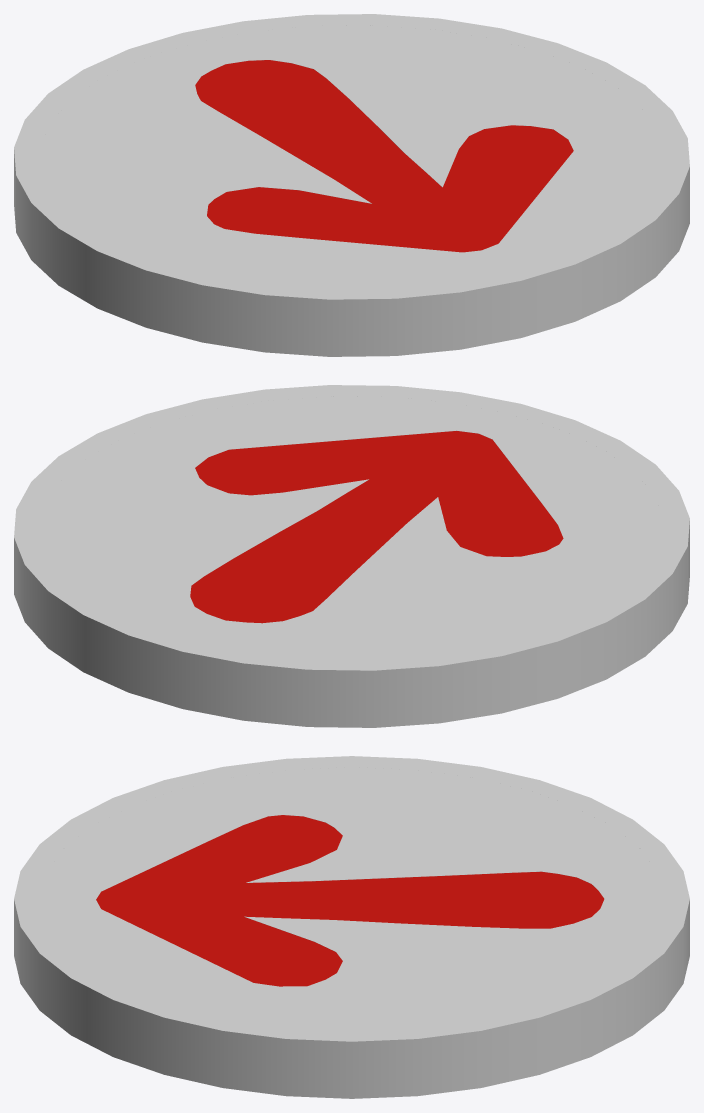
File: drop token.fbx
3 views of the same model, one above another, from view 1: azimuth 30°, elevation 25°; view 2: azimuth 150°, elevation 25°; view 3: azimuth 270°, elevation 25° (orthographic).
Visible parts, largest first — view 1: Cylinder.005; view 2: Cylinder.005; view 3: Cylinder.005.
Boxes of the visible parts, bbox=[...] form: Cylinder.005: bbox=[14, 14, 689, 356]; Cylinder.005: bbox=[14, 385, 689, 727]; Cylinder.005: bbox=[14, 756, 689, 1098].
Size of the model in its own units: 66.18 by 6.18 by 66.18.
